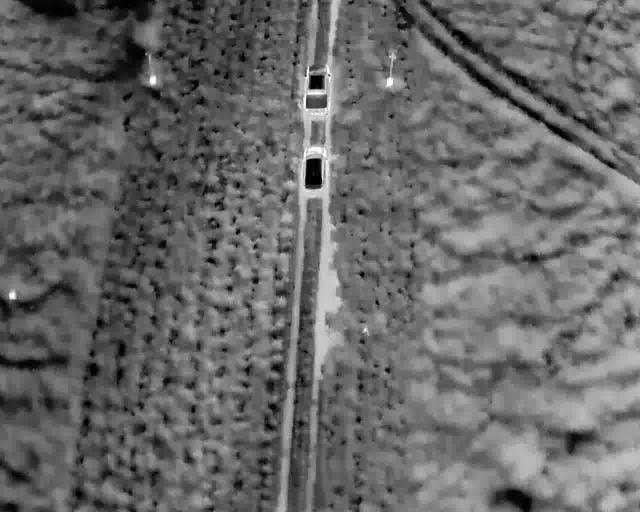car: (303, 64, 330, 114), (301, 145, 326, 196)
